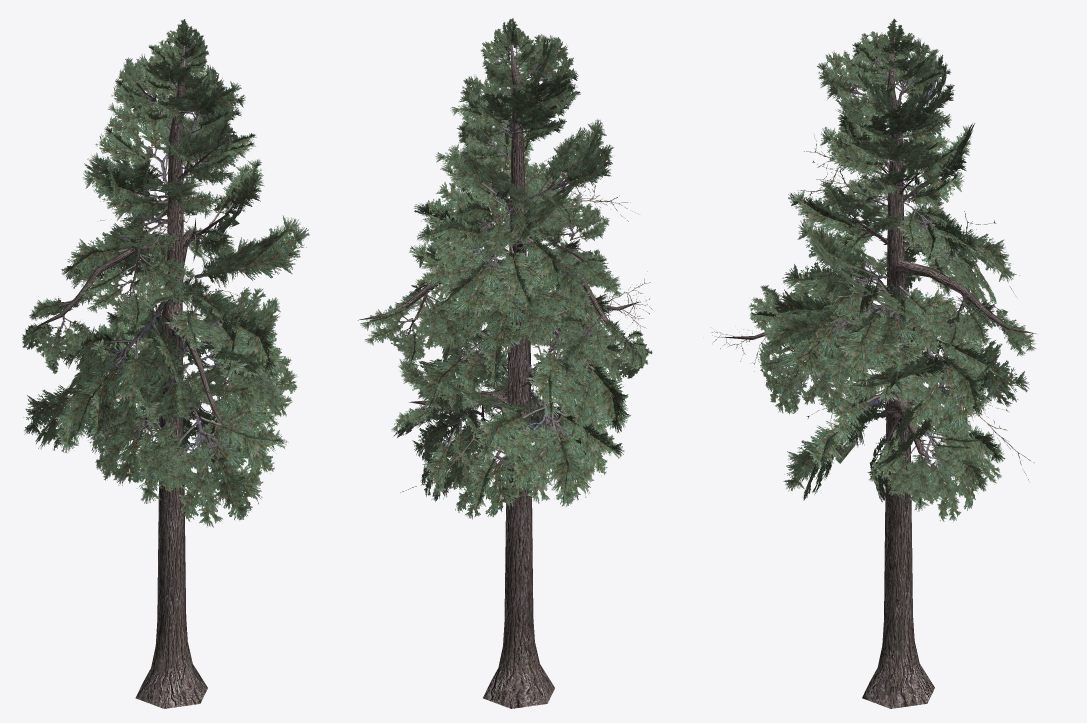
File: ScotsPine2.fbx
3 renders of one model, left to right at view 1: azimuth 30°, elevation 25°; view 2: azimuth 150°, elevation 25°; view 3: azimuth 270°, elevation 25°, orthographic.
Parts seen in each view (by area): view 1: ScotsPine; view 2: ScotsPine; view 3: ScotsPine.
Boxes of the visible parts, x1=… form: ScotsPine: x1=22, y1=19, x2=309, y2=708; ScotsPine: x1=358, y1=18, x2=652, y2=708; ScotsPine: x1=711, y1=19, x2=1037, y2=708.
Bounding box in the file's own units: 13.05 × 30.46 × 15.13.
2 materials, 2 textured.
